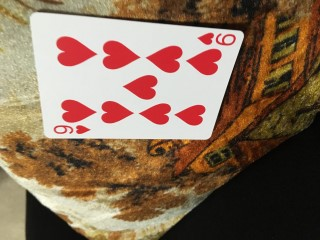NineOfHearts: (30, 12, 245, 140)
